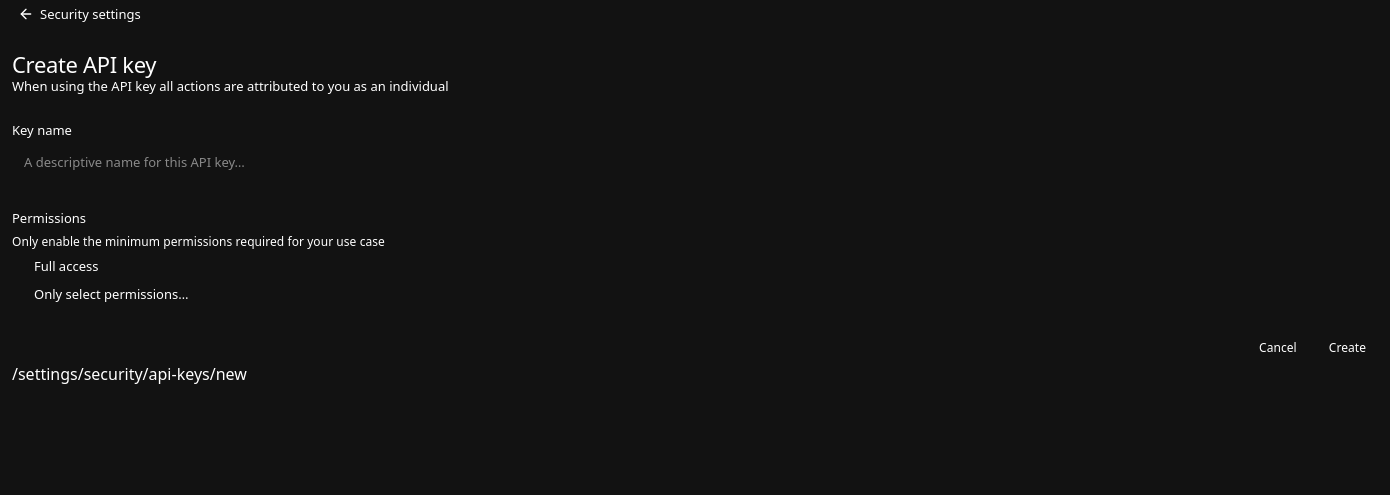
it: ApiKeyCreatePage › as Admin › keeps the form and shows the error toast when creating fails
This screenshot has width=1390, height=495.
In the field labelled "Key name": (695, 162) [12, 146, 1378, 178], type "CI deploy"
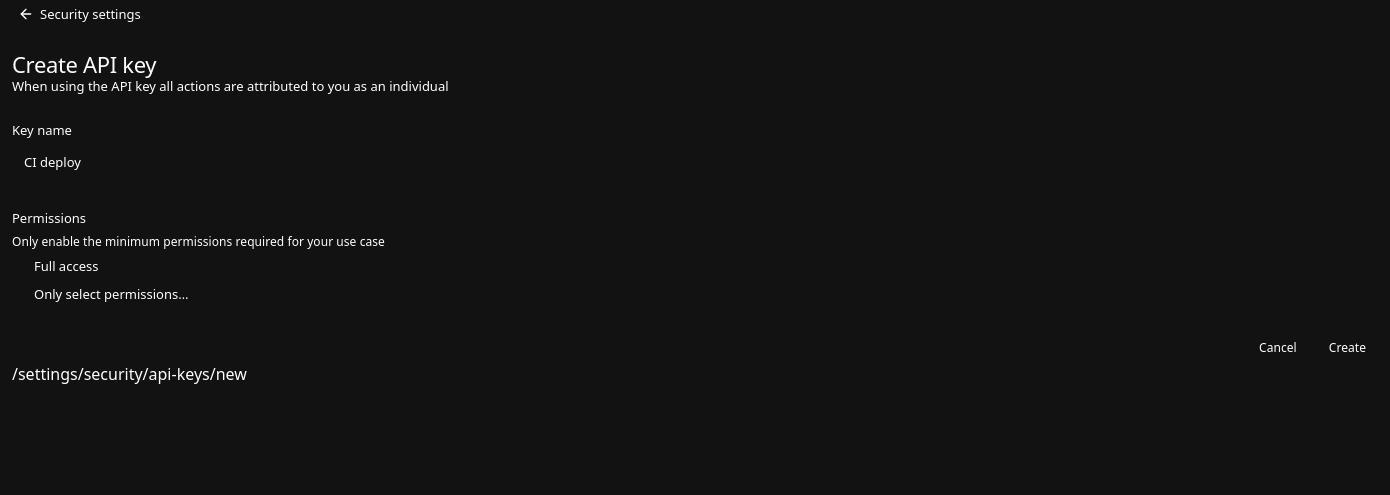
Click the button "Create": click(1347, 348) [1317, 334, 1378, 362]
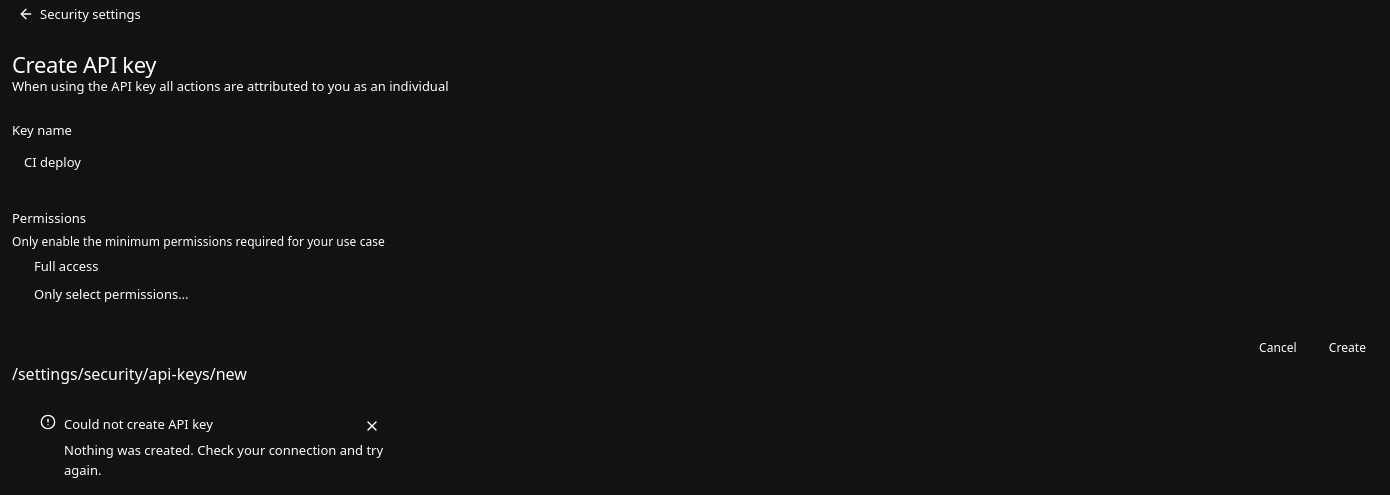
Expected: the text named "Current URL" reads "/settings/security/api-keys/new", [12, 363, 247, 385]
Result: the text "Could not create API key" is shown at [64, 415, 213, 433]
